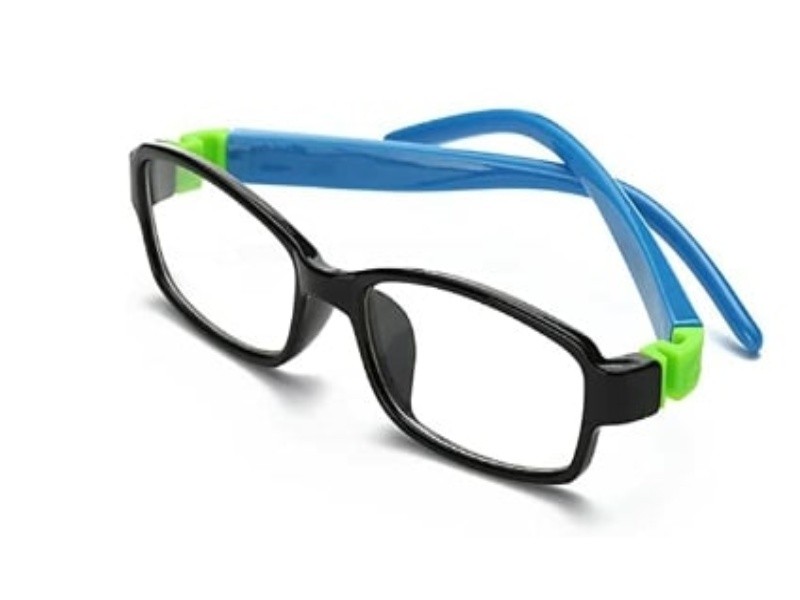goggles: (100, 125, 622, 496)
